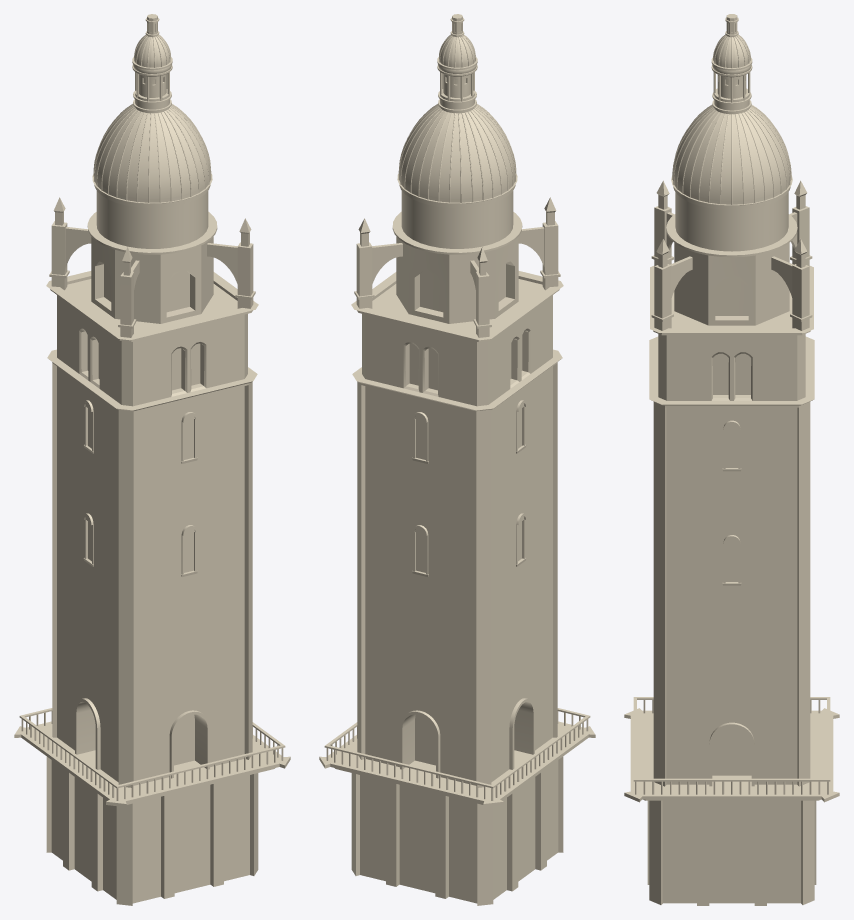
The model's file is SM_Queens_Tower.fbx.
3 views of the same model, side by side, from view 1: azimuth 30°, elevation 25°; view 2: azimuth 150°, elevation 25°; view 3: azimuth 270°, elevation 25° (orthographic).
Parts seen in each view (by area): view 1: SM_Queens_Tower; view 2: SM_Queens_Tower; view 3: SM_Queens_Tower.
Part boxes in pixels (x1,y1,x2,y2): SM_Queens_Tower: (14,14,290,905); SM_Queens_Tower: (319,14,595,905); SM_Queens_Tower: (624,14,839,905).
Bounding box in the file's own units: 19 × 83.09 × 19.
